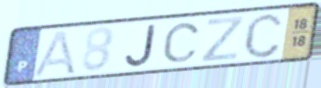8: (80, 24, 118, 75)
A: (31, 28, 78, 78)
C: (241, 10, 285, 60), (160, 21, 203, 65)
J: (123, 22, 158, 69)
Z: (199, 14, 246, 64)
